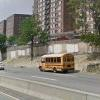Bus: (36, 51, 79, 74)
